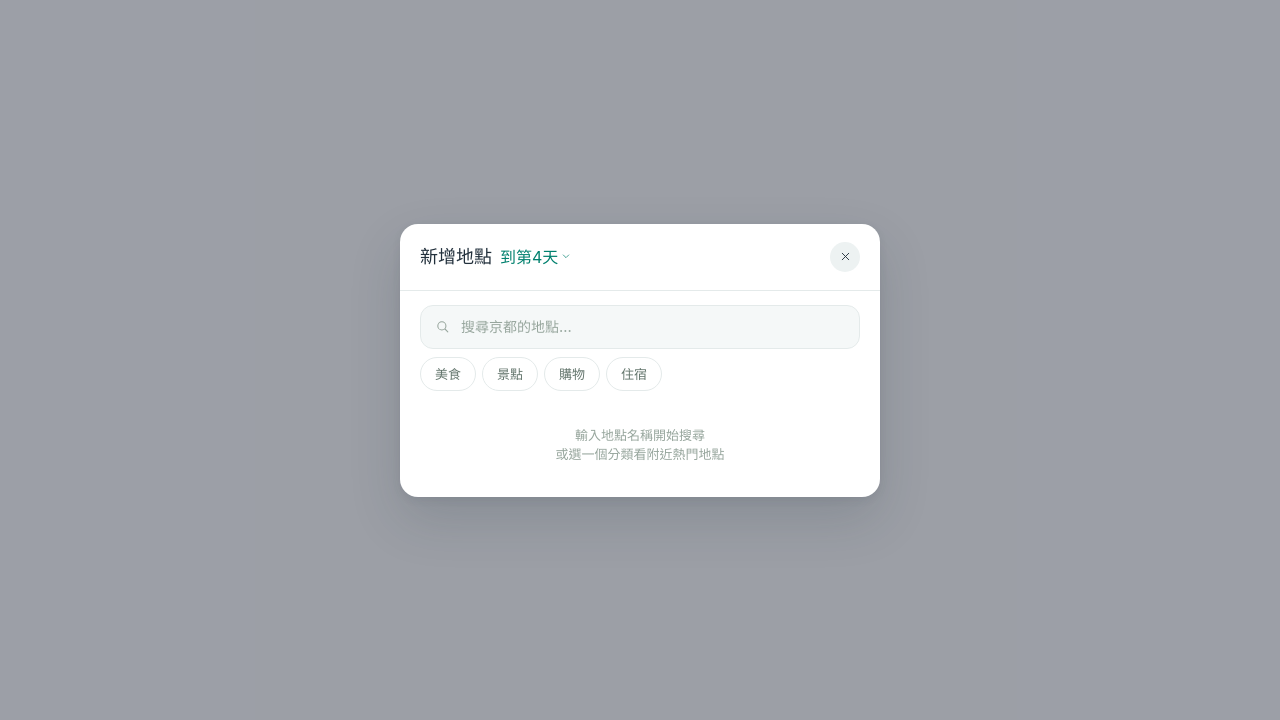
Test: AddPlaceModal › clicking a category chip searches and renders results, using the chip as the category
Click the button "美食" at (448, 374), box [420,356,476,390]
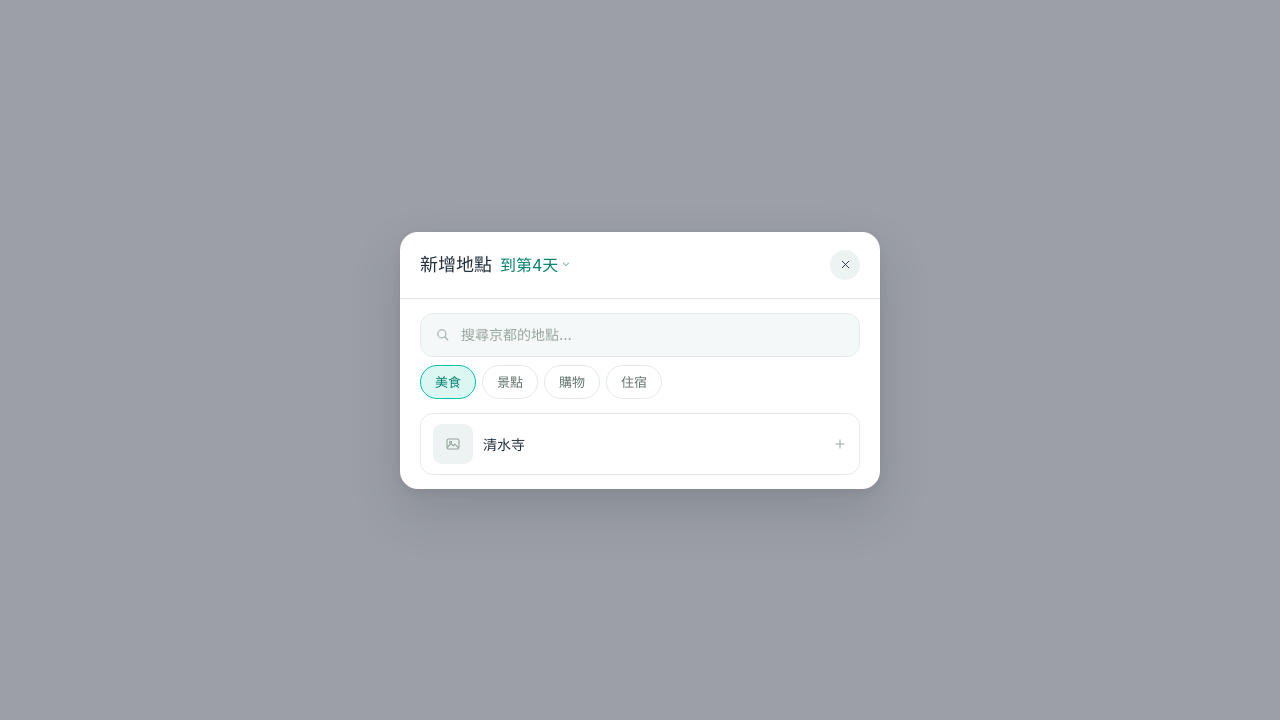
Expected: the number of buttons with class "add-place-suggestion" is 1, [420,412,860,474]
Expected: the text "清水寺" is shown, [483,436,525,452]
